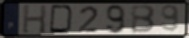2: (79, 5, 101, 34)
9: (105, 4, 127, 35), (160, 4, 181, 35)
B: (130, 4, 157, 34)
D: (48, 4, 75, 35)
H: (21, 4, 48, 34)
